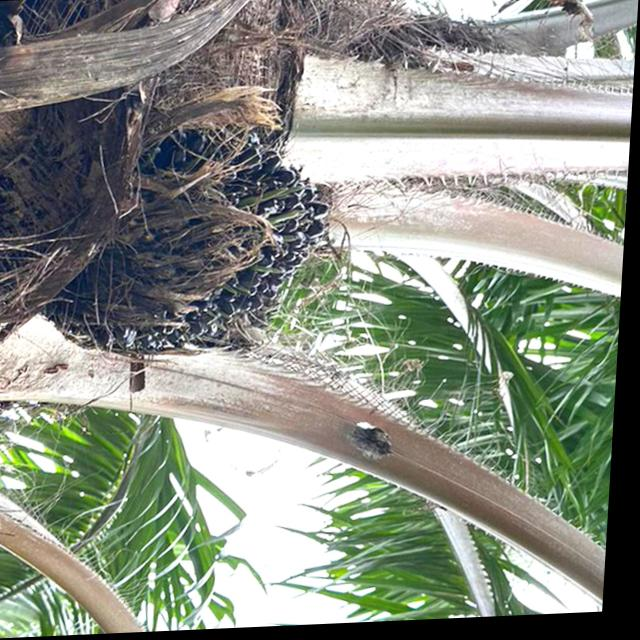unripe: (32, 114, 350, 377)
